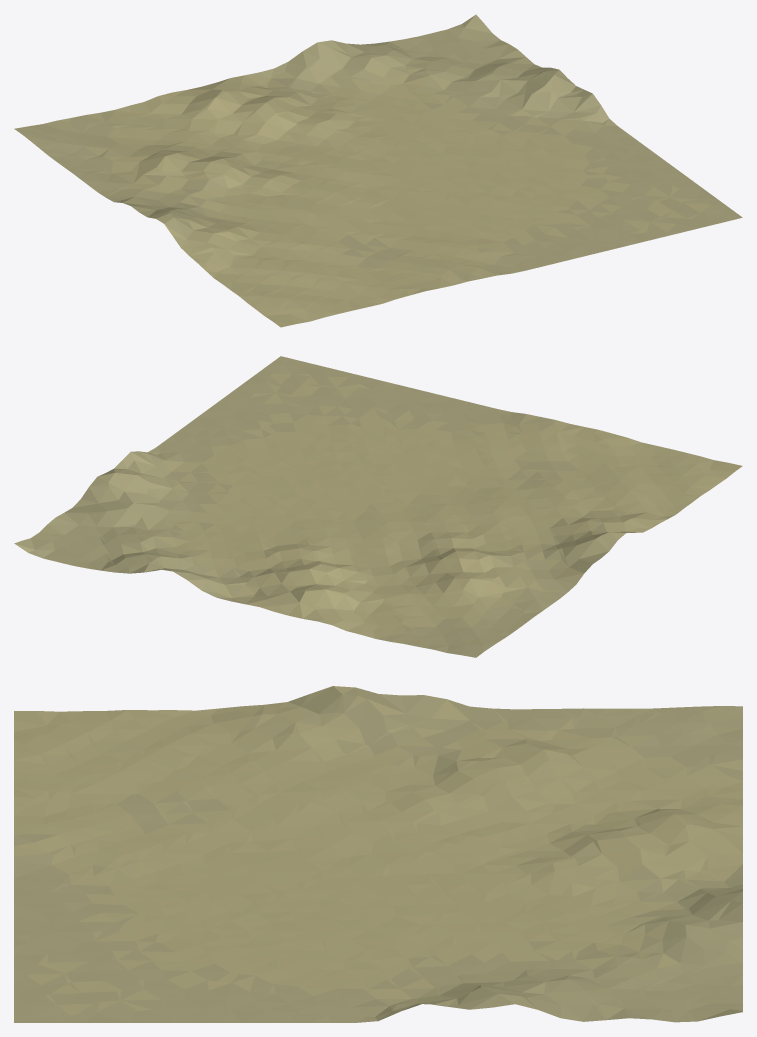
Rendered from Ground_-2_-8.glb.
The picture shows the model from 3 angles, top to bottom: view 1: azimuth 30°, elevation 25°; view 2: azimuth 150°, elevation 25°; view 3: azimuth 270°, elevation 25°; orthographic projection. The views are drawn at different scales.
Visible parts, largest first — view 1: Ground_-2_-8; view 2: Ground_-2_-8; view 3: Ground_-2_-8.
Part boxes in pixels (<box>): Ground_-2_-8: <box>14,14,742,327</box>; Ground_-2_-8: <box>14,356,742,657</box>; Ground_-2_-8: <box>14,686,742,1022</box>.
Bounding box in the file's own units: 768 × 34.49 × 768.
